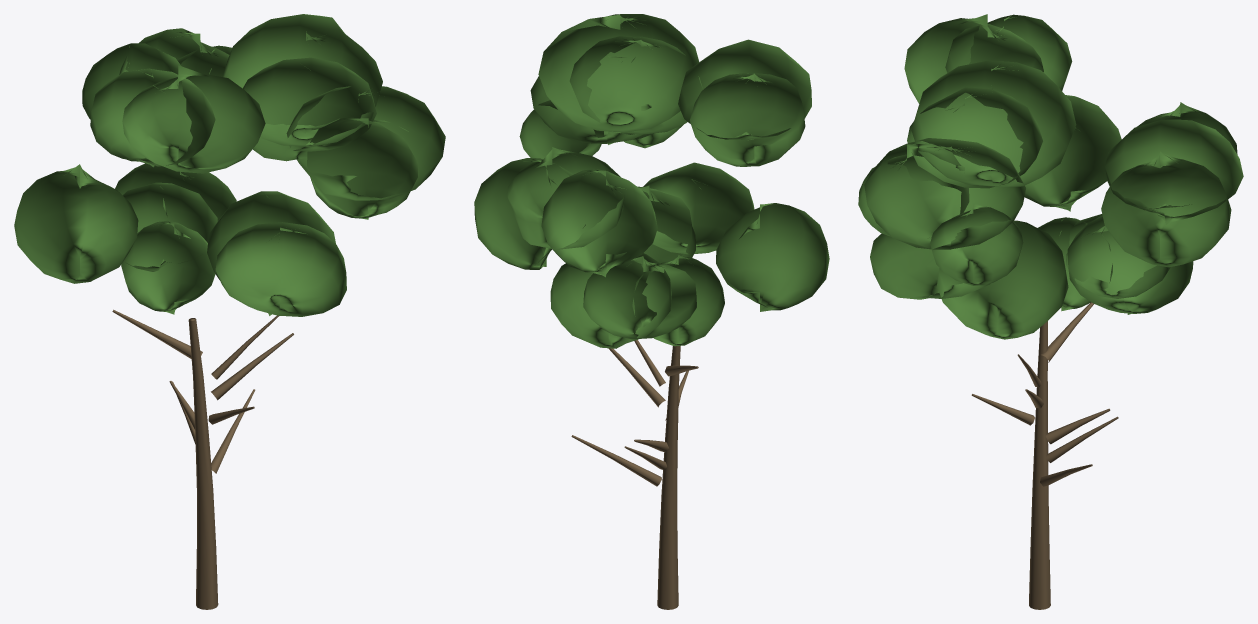
The model's file is field_birch_b_lod0.glb.
3 views of the same model, side by side, from view 1: azimuth 30°, elevation 25°; view 2: azimuth 150°, elevation 25°; view 3: azimuth 270°, elevation 25° (orthographic). The views are drawn at different scales.
Parts seen in each view (by area): view 1: foliage, bark; view 2: foliage, bark; view 3: foliage, bark.
Boxes of the visible parts, x1=… form: foliage: x1=14, y1=14, x2=445, y2=316; bark: x1=112, y1=309, x2=293, y2=609; foliage: x1=474, y1=14, x2=829, y2=348; bark: x1=571, y1=339, x2=698, y2=609; foliage: x1=858, y1=14, x2=1243, y2=339; bark: x1=971, y1=302, x2=1118, y2=609.
Size of the model in its own units: 4.36 by 6.88 by 4.2.
